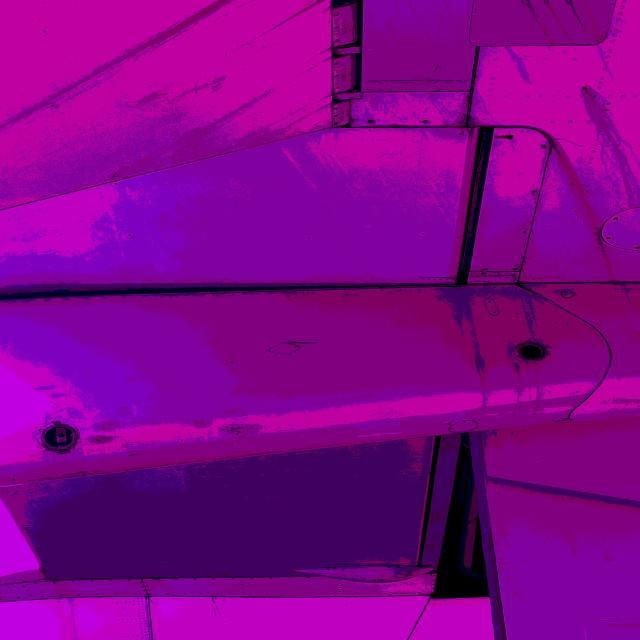crack: (283, 339, 330, 352)
